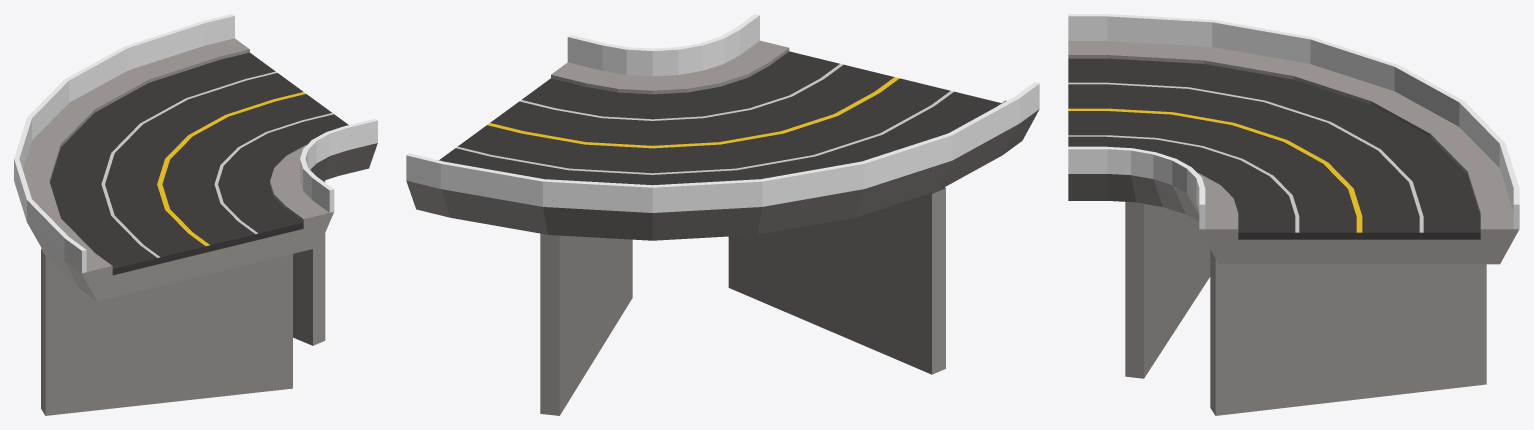
Rendered from bridge-mainroad-curve.glb.
3 views of the same model, side by side, from view 1: azimuth 30°, elevation 25°; view 2: azimuth 150°, elevation 25°; view 3: azimuth 270°, elevation 25° (orthographic). The views are drawn at different scales.
Visible parts, largest first — view 1: bridge-mainroad-curve; view 2: bridge-mainroad-curve; view 3: bridge-mainroad-curve.
Part boxes in pixels (bbox=[...]): bridge-mainroad-curve: bbox=[14, 14, 377, 415]; bridge-mainroad-curve: bbox=[406, 14, 1039, 415]; bridge-mainroad-curve: bbox=[1068, 14, 1519, 415].
Size of the model in its own units: 23.25 by 13.4 by 23.25.
Materials: 1 (1 with a texture image).
